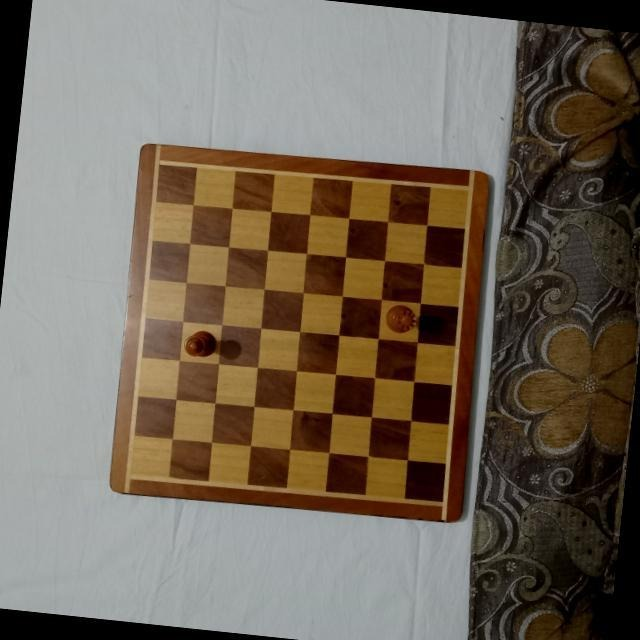white-king: (181, 328, 218, 359)
white-queen: (382, 300, 421, 334)
